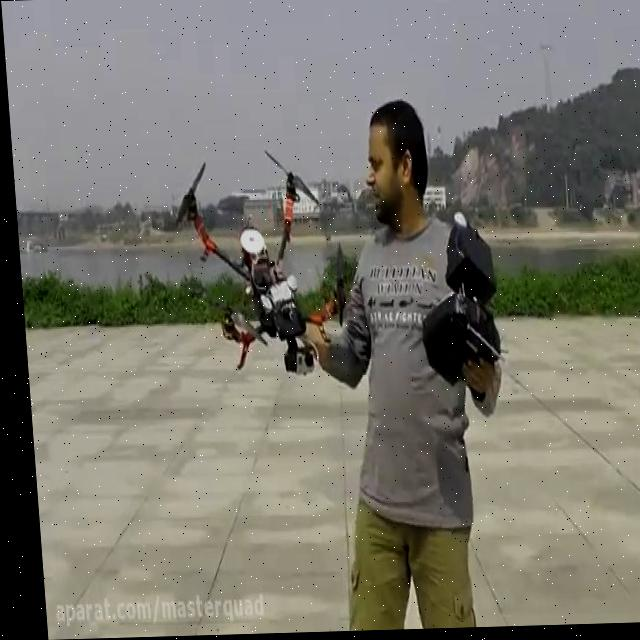drone: (162, 144, 349, 381)
